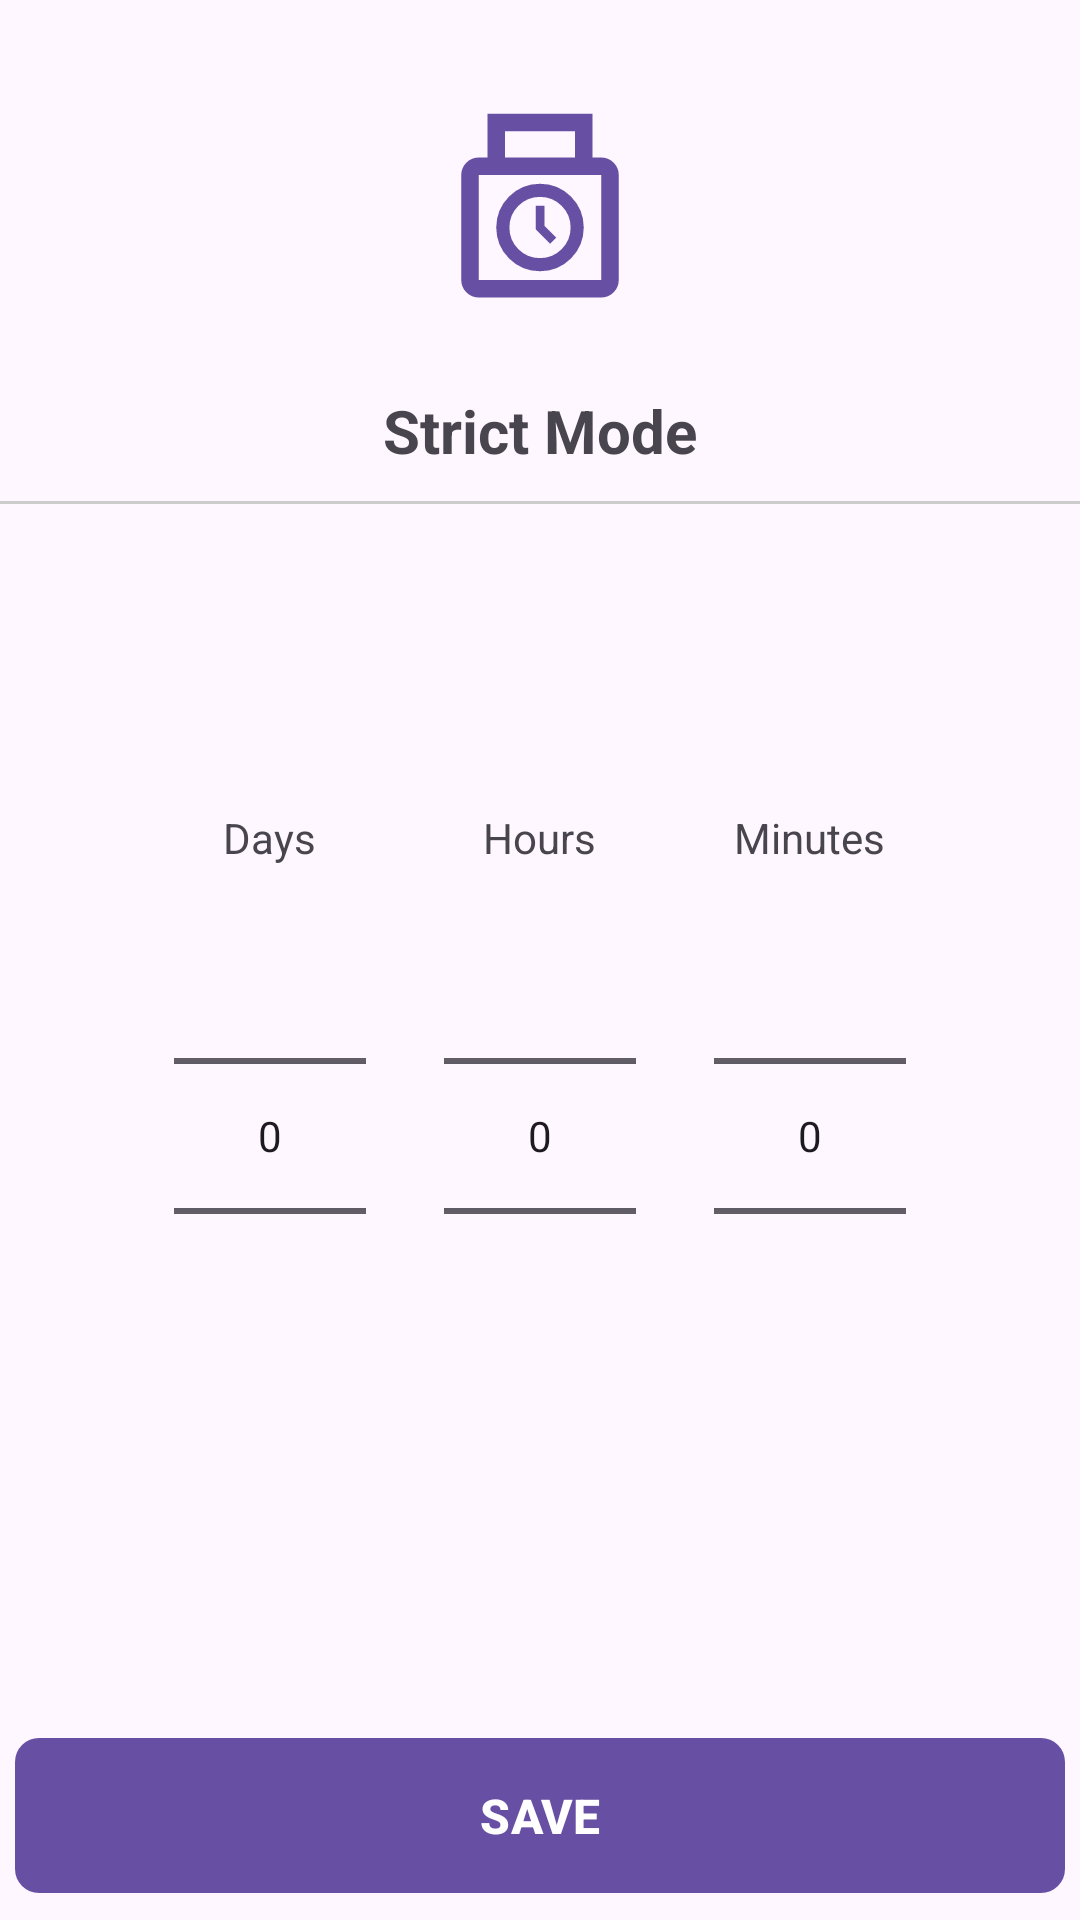

Where to tap for icons on this 1080 x 1920 app screen, as [x,y]:
strict time: [540,205]
